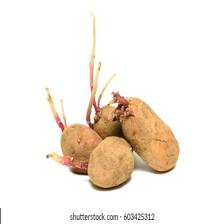Sprouted potato: (75, 21, 144, 157), (109, 86, 187, 179), (33, 95, 104, 179), (81, 130, 138, 192)
